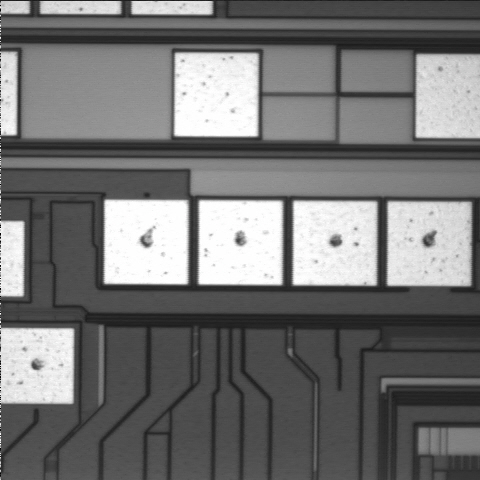pad: (198, 200, 283, 285), (174, 53, 258, 137), (104, 200, 188, 284), (293, 201, 377, 285), (387, 202, 471, 286)
